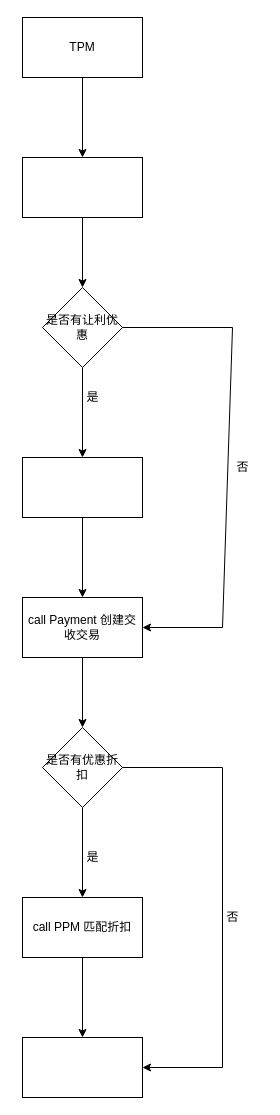
This 280x1115 diagram has some shape labels left out. Each missing label, with the box of its shape:
call PPM 获取让利优惠的PaymentMethodSeriesId: (22, 456, 142, 518)
创建CT: (22, 156, 142, 218)
完成: (22, 1036, 142, 1098)
